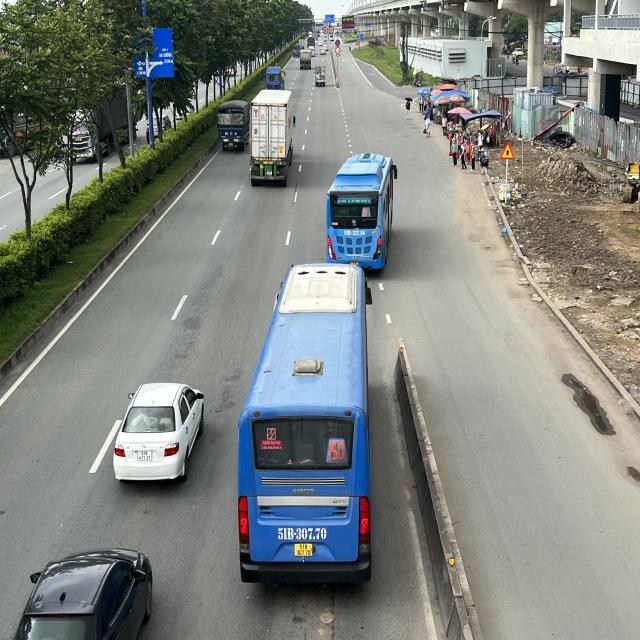car: (9, 548, 152, 637), (113, 382, 206, 486)
coach: (236, 260, 374, 586), (324, 150, 398, 275)
container: (248, 89, 294, 185)
truck: (216, 99, 248, 152), (314, 65, 326, 86)
